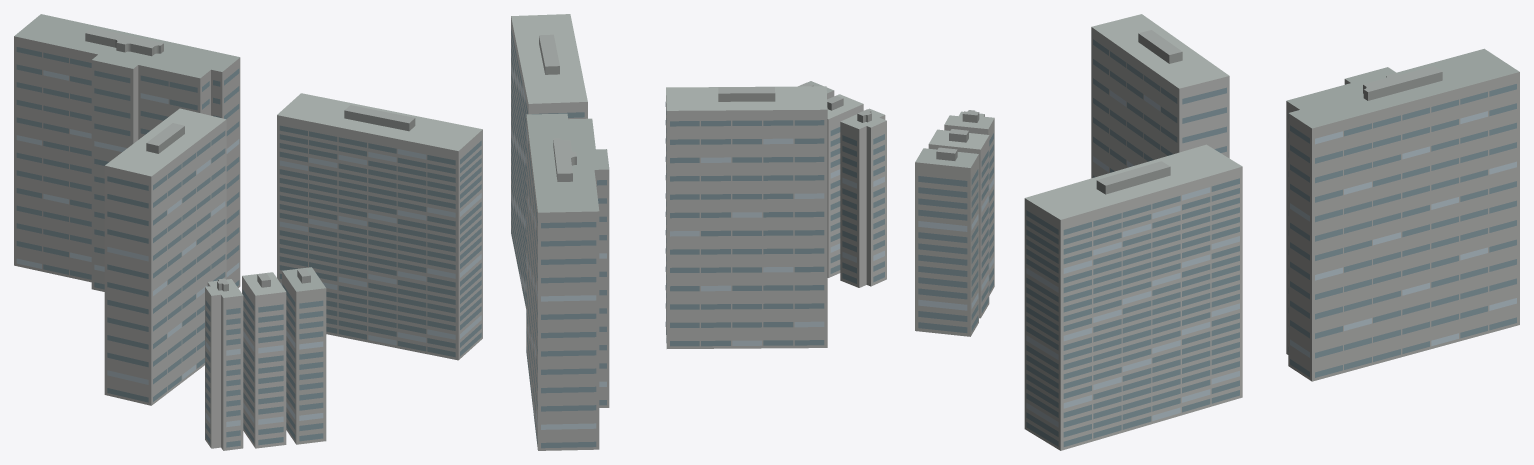
File: apt-a13087405.glb
3 renders of one model, left to right at view 1: azimuth 30°, elevation 25°; view 2: azimuth 150°, elevation 25°; view 3: azimuth 270°, elevation 25°, orthographic. The views are drawn at different scales.
Visible parts, largest first — view 1: apt-a13087405; view 2: apt-a13087405; view 3: apt-a13087405.
Part boxes in pixels (x1=…): apt-a13087405: x1=14, y1=14, x2=482, y2=450; apt-a13087405: x1=511, y1=14, x2=886, y2=450; apt-a13087405: x1=915, y1=14, x2=1519, y2=450.
Bounding box in the file's own units: 107 × 71 × 149.
